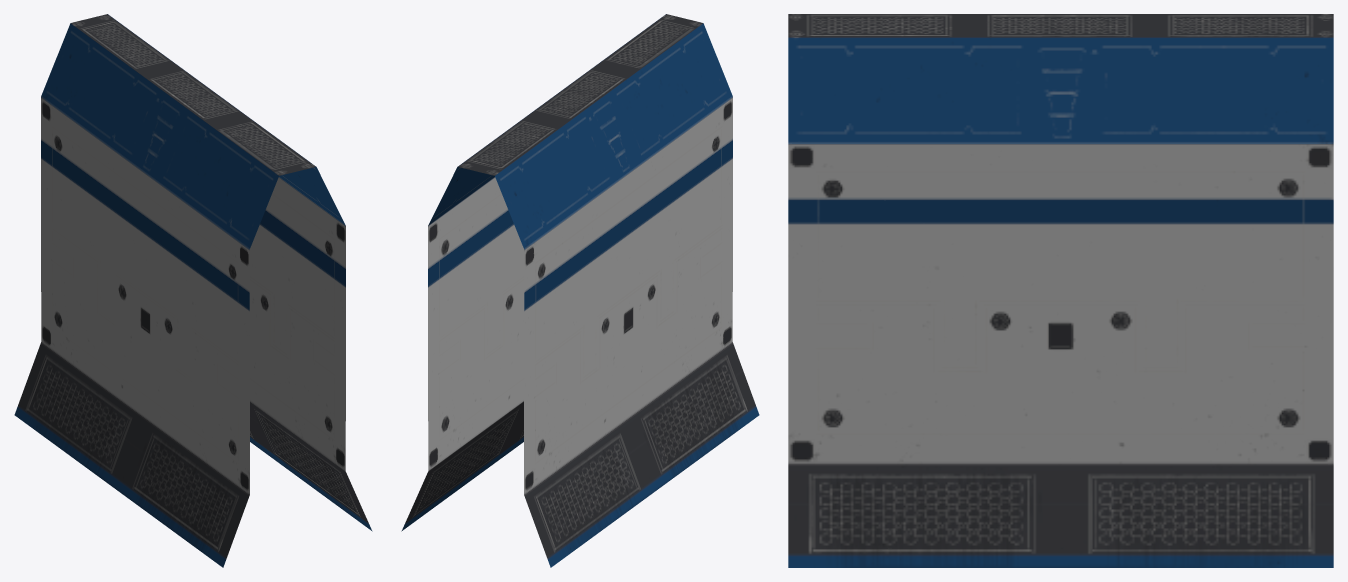
The model's file is Wall_1_Sci_Fi.fbx.
3 views of the same model, side by side, from view 1: azimuth 30°, elevation 25°; view 2: azimuth 150°, elevation 25°; view 3: azimuth 270°, elevation 25° (orthographic). The views are drawn at different scales.
Parts seen in each view (by area): view 1: Sci_Fi_wall_1; view 2: Sci_Fi_wall_1; view 3: Sci_Fi_wall_1.
Part boxes in pixels (x1,y1,x2,y2): Sci_Fi_wall_1: [14, 14, 372, 567]; Sci_Fi_wall_1: [401, 14, 759, 567]; Sci_Fi_wall_1: [788, 14, 1333, 567].
Bounding box in the file's own units: 163 × 395 × 395.
